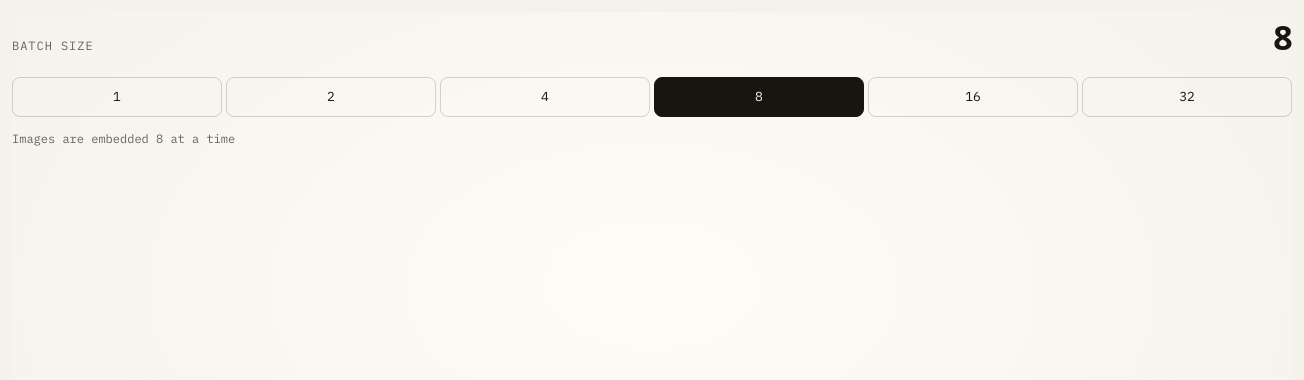
BatchSizeSelector › updates the batch size when another is picked
The width and height of the screenshot is (1304, 380).
What coordinates should you click on to do the following:
click the text "16"
I would click on:
 (973, 97)
Its box is [868,77,1078,117].
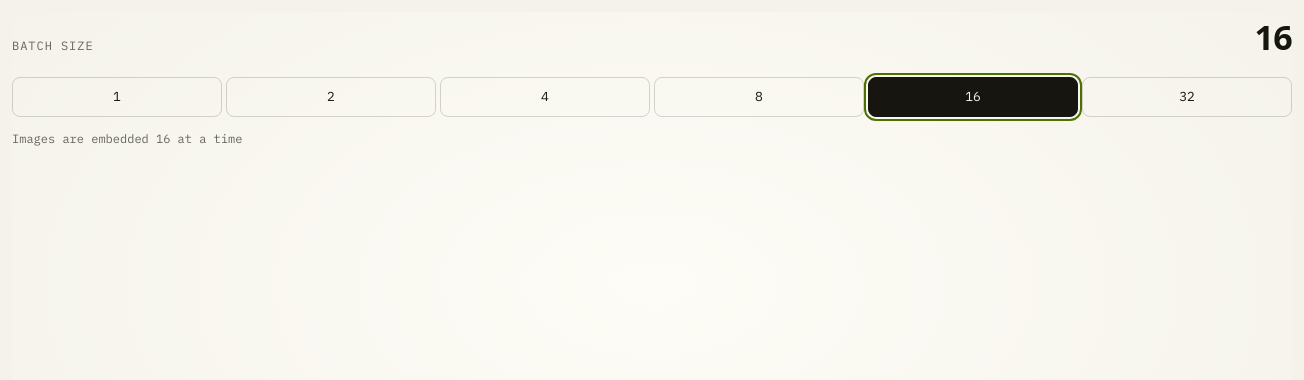
Expected: the radio button labelled "16" is checked, [868,77,1078,117]
